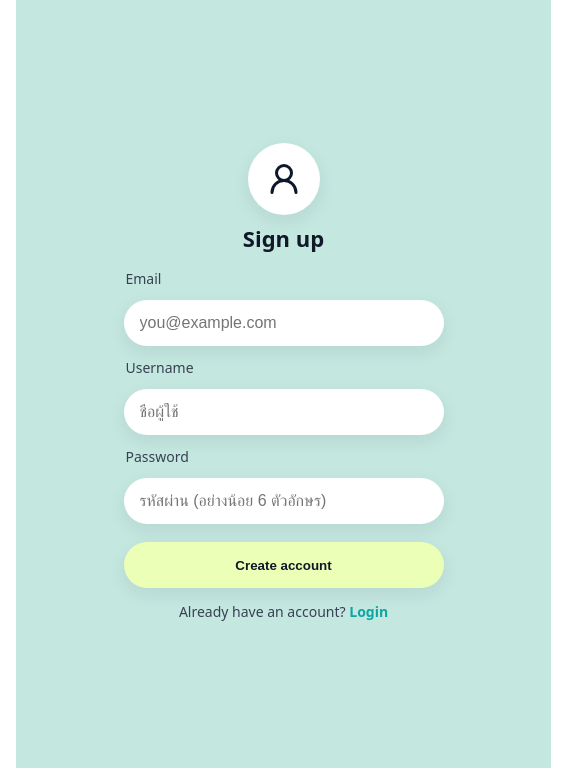
SignUp (Frontend only) › API error: แสดงข้อความจาก server
In the field labelled "Email": (284, 323) [124,300,444,346], type "me@example.com"
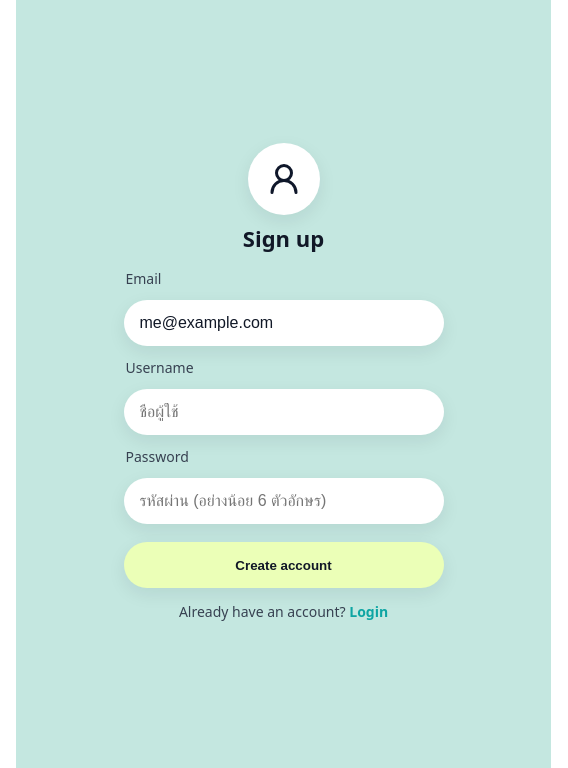
In the field labelled "Username": (284, 412) [124,389,444,435], type "me"
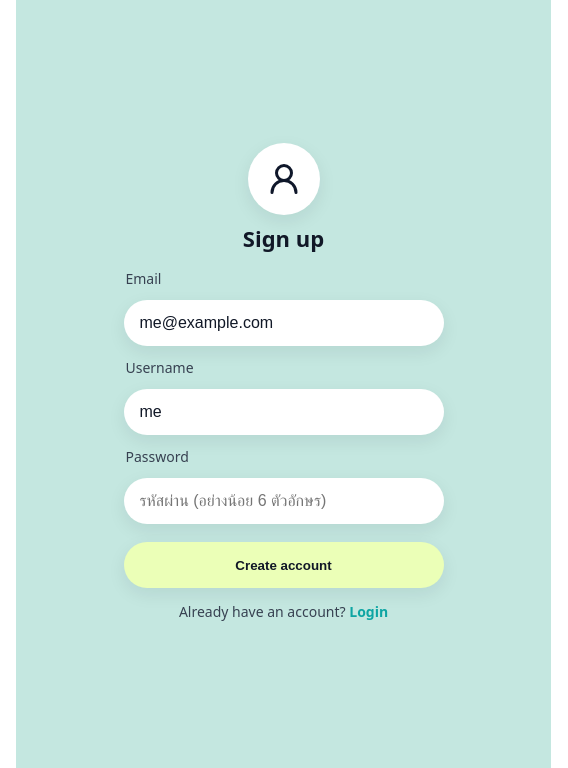
In the password field labelled "Password": (284, 501) [124,478,444,524], type "secret6"
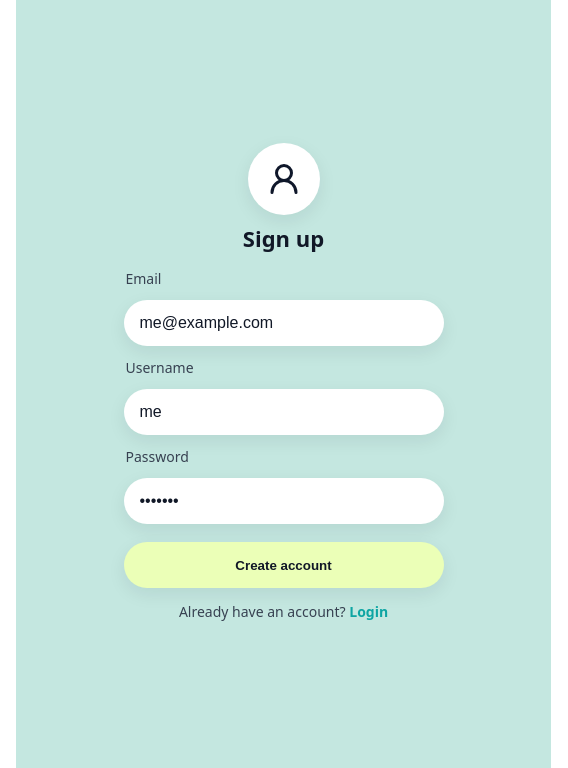
Click the button "Create account": (284, 565) [124,542,444,588]
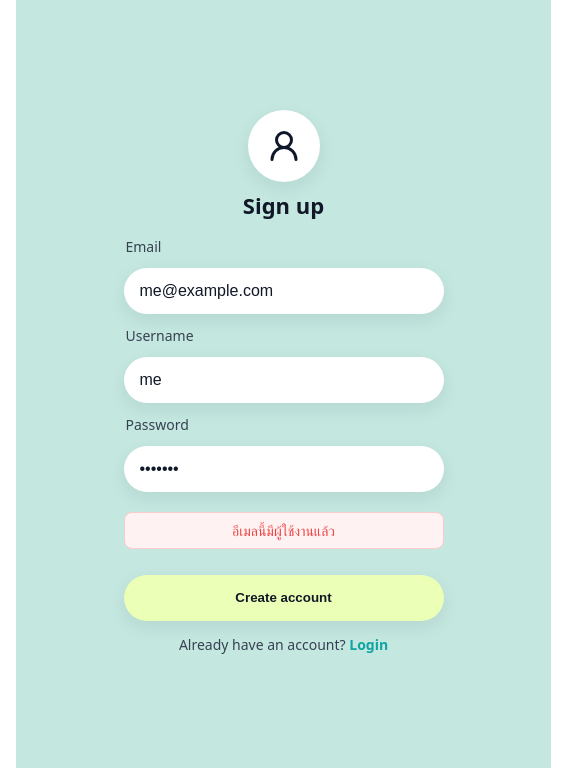
Expected: the text "อีเมลนี้มีผู้ใช้งานแล้ว" is shown, [124,512,444,549]
